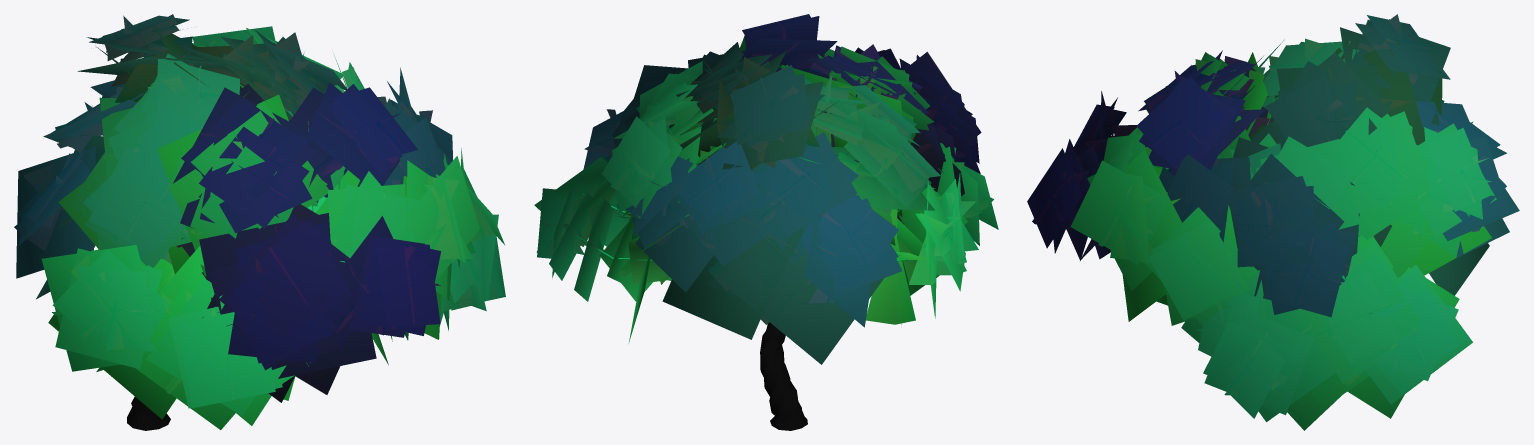
Rendered from Tree01.fbx.
The picture shows the model from 3 angles, left to right: view 1: azimuth 30°, elevation 25°; view 2: azimuth 150°, elevation 25°; view 3: azimuth 270°, elevation 25°; orthographic projection. The views are drawn at different scales.
Visible parts, largest first — view 1: Tree_1, Tree_0; view 2: Tree_1, Tree_0; view 3: Tree_1.
Boxes of the visible parts, box(x1,y1,x2,y2) form: Tree_1: box(14, 14, 505, 429); Tree_0: box(92, 54, 457, 430); Tree_1: box(534, 14, 998, 364); Tree_0: box(575, 63, 963, 430); Tree_1: box(1027, 14, 1519, 430).
Bounding box in the file's own units: 1088 × 960 × 1153.
